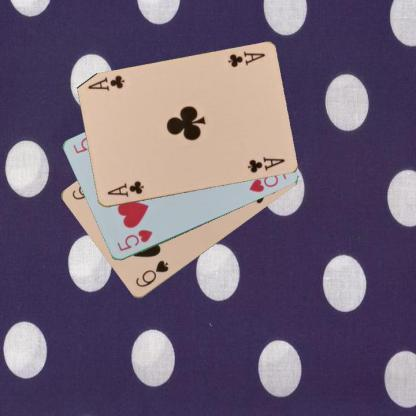5h: (114, 227, 154, 253)
6s: (132, 258, 170, 289)
Ac: (225, 48, 266, 68), (105, 178, 145, 198)
